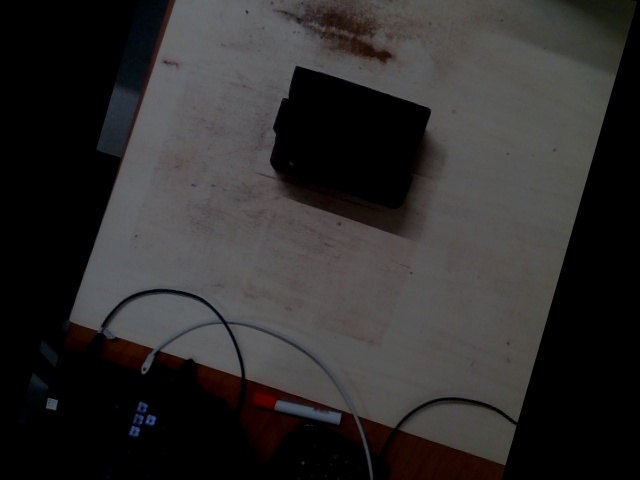brick-side: (272, 96, 417, 170), (270, 130, 413, 203), (288, 65, 430, 136)
